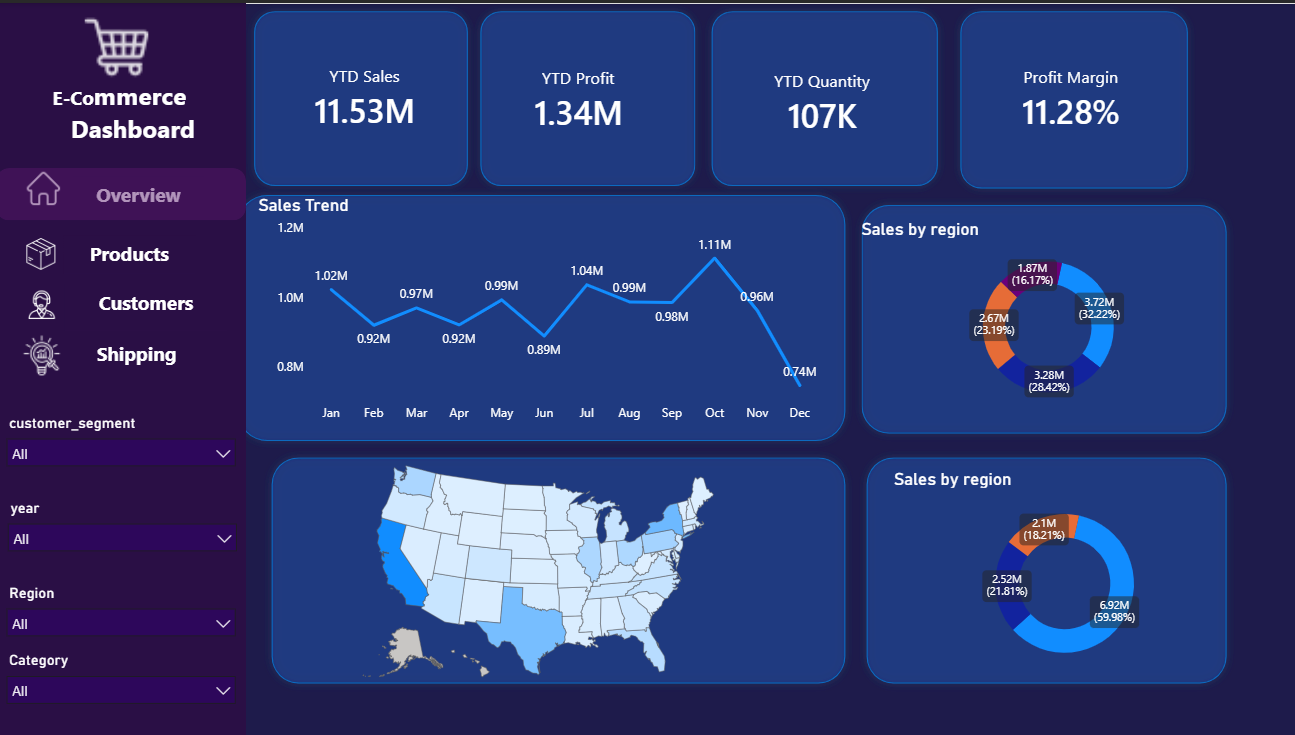

What the dashboard file says about the page in this screenshot:
{"tool":"powerbi","page":{"name":"Page 1","canvas":[1280,720],"ordinal":0},"visuals":[{"type":"shape","box":[938.7,0,239.3,190.2],"z":0},{"type":"shape","box":[694.5,0,238,187.7],"z":1000},{"type":"shape","box":[467.5,0,227,187.7],"z":2000},{"type":"shape","box":[245.4,0,225.8,187.7],"z":3000},{"type":"shape","box":[229.4,180.4,612.3,257.7],"z":4000},{"type":"shape","box":[0,0,245.4,720.2],"z":5000},{"type":"cardVisual","fields":{"Data":["measure Table.YTD Sales"]},"box":[252.8,23.3,218.4,139.9],"z":6000},{"type":"textbox","box":[76.1,170.5,127.6,40.5],"z":6000,"group":"g1"},{"type":"cardVisual","fields":{"Data":["measure Table.YTD Profit"]},"box":[449.1,23.3,245.4,142.3],"z":7000},{"type":"textbox","box":[66.1,228.7,129.2,37.5],"z":7000,"group":"g2"},{"type":"cardVisual","fields":{"Data":["measure Table.YTD Quantity"]},"box":[688.3,16,245.4,163.2],"z":8000},{"type":"textbox","box":[67.5,276.1,159.5,45.4],"z":8000,"group":"g3"},{"type":"cardVisual","fields":{"Data":["measure Table.Profit Margin"]},"box":[932.5,12.3,245.4,163.2],"z":9000},{"type":"lineChart","title":"Sales Trend","fields":{"Category":["calender.month"],"Y":["measure Table.YTD Sales"]},"box":[252.8,187.7,558.3,242.9],"z":10000},{"type":"shape","box":[841.7,190.2,374.2,240.5],"z":11000},{"type":"donutChart","title":"Sales by region","fields":{"Category":["e_commerce.customer_region"],"Y":["measure Table.YTD Sales"]},"box":[846.6,207.4,374.2,198.8],"z":12000},{"type":"shape","box":[262.6,438,579.1,238],"z":13000},{"type":"shapeMap","title":"Sales Trend","fields":{"Category":["e_commerce.customer_state"],"Value":["measure Table.YTD Sales"]},"box":[139.9,438,798.8,238],"z":14000},{"type":"slicer","fields":{"Values":["e_commerce.customer_segment"]},"box":[0,398.8,245.4,62.6],"z":15000},{"type":"slicer","fields":{"Values":["calender.year"]},"box":[1.2,482.2,245.4,62.6],"z":16000},{"type":"slicer","fields":{"Values":["e_commerce.customer_region"]},"box":[0,565.6,245.4,62.6],"z":17000},{"type":"slicer","fields":{"Values":["e_commerce.category_name"]},"box":[0,631.9,245.4,62.6],"z":18000},{"type":"textbox","box":[25.8,69.9,197.5,93.3],"z":19000},{"type":"image","box":[68.7,12.3,99.4,62.6],"z":20000},{"type":"shape","box":[846.6,438,369.3,238],"z":21000},{"type":"donutChart","title":"Sales by region","fields":{"Category":["e_commerce.category_name"],"Y":["measure Table.YTD Sales"]},"box":[878.5,452.8,342.3,211],"z":22000},{"type":"group","id":"g1","title":"Group 1","box":[0.2,156.3,238,54.7],"z":23000},{"type":"image","box":[24.5,165.6,44.2,33.1],"z":24000,"group":"g1"},{"type":"group","id":"g2","title":"Group 2","box":[9.8,224.5,220.9,44.2],"z":24000},{"type":"image","box":[21.1,231.2,46.4,30.9],"z":25000,"group":"g2"},{"type":"group","id":"g3","title":"Group 3","box":[10.3,271.1,220.9,55.2],"z":25000},{"type":"image","box":[20.8,282.2,47.9,28.2],"z":26000,"group":"g3"},{"type":"group","id":"g4","title":"Group 4","box":[22,326.4,45.4,39.3],"z":26000,"group":"g5"},{"type":"actionButton","box":[0.2,156.3,238,49.1],"z":26001,"group":"g1"},{"type":"actionButton","box":[9.8,224.5,220.9,44.2],"z":26001,"group":"g2"},{"type":"shape","box":[0,162,245.4,51.5],"z":27000},{"type":"image","box":[22,326.4,45.4,39.3],"z":27000,"group":"g4"},{"type":"textbox","box":[76,326.4,123.9,35.6],"z":27001,"group":"g5"},{"type":"group","id":"g5","title":"Group 5","box":[0.9,324.7,238,45.4],"z":27002},{"type":"actionButton","box":[0.9,324.7,238,45.4],"z":27003,"group":"g5"},{"type":"actionButton","box":[10.3,271.1,220.9,55.2],"z":30004,"group":"g3"}]}

Visuals, with their boxes in screenshot pixels (x1, y1, x2, y2), scaled from the page's 1280x720 canvas onto the 1295x735 screenshot:
shape: x1=950, y1=0, x2=1192, y2=194
shape: x1=703, y1=0, x2=943, y2=192
shape: x1=473, y1=0, x2=703, y2=192
shape: x1=248, y1=0, x2=477, y2=192
shape: x1=232, y1=184, x2=852, y2=447
shape: x1=0, y1=0, x2=248, y2=734
cardVisual - measure Table.YTD Sales: x1=256, y1=24, x2=477, y2=167
textbox: x1=77, y1=174, x2=206, y2=215
cardVisual - measure Table.YTD Profit: x1=454, y1=24, x2=703, y2=169
textbox: x1=67, y1=233, x2=198, y2=272
cardVisual - measure Table.YTD Quantity: x1=696, y1=16, x2=945, y2=183
textbox: x1=68, y1=282, x2=230, y2=328
cardVisual - measure Table.Profit Margin: x1=943, y1=13, x2=1192, y2=179
"Sales Trend" lineChart: x1=256, y1=192, x2=821, y2=440
shape: x1=852, y1=194, x2=1230, y2=440
"Sales by region" donutChart: x1=857, y1=212, x2=1235, y2=415
shape: x1=266, y1=447, x2=852, y2=690
"Sales Trend" shapeMap: x1=142, y1=447, x2=950, y2=690
slicer - e_commerce.customer_segment: x1=0, y1=407, x2=248, y2=471
slicer - calender.year: x1=1, y1=492, x2=249, y2=556
slicer - e_commerce.customer_region: x1=0, y1=577, x2=248, y2=641
slicer - e_commerce.category_name: x1=0, y1=645, x2=248, y2=709
textbox: x1=26, y1=71, x2=226, y2=167
image: x1=70, y1=13, x2=170, y2=76
shape: x1=857, y1=447, x2=1230, y2=690
"Sales by region" donutChart: x1=889, y1=462, x2=1235, y2=678
"Group 1" group: x1=0, y1=160, x2=241, y2=215
image: x1=25, y1=169, x2=70, y2=203
"Group 2" group: x1=10, y1=229, x2=233, y2=274
image: x1=21, y1=236, x2=68, y2=268
"Group 3" group: x1=10, y1=277, x2=234, y2=333
image: x1=21, y1=288, x2=70, y2=317
"Group 4" group: x1=22, y1=333, x2=68, y2=373
actionButton: x1=0, y1=160, x2=241, y2=210
actionButton: x1=10, y1=229, x2=233, y2=274
shape: x1=0, y1=165, x2=248, y2=218
image: x1=22, y1=333, x2=68, y2=373
textbox: x1=77, y1=333, x2=202, y2=370
"Group 5" group: x1=1, y1=331, x2=242, y2=378
actionButton: x1=1, y1=331, x2=242, y2=378
actionButton: x1=10, y1=277, x2=234, y2=333
